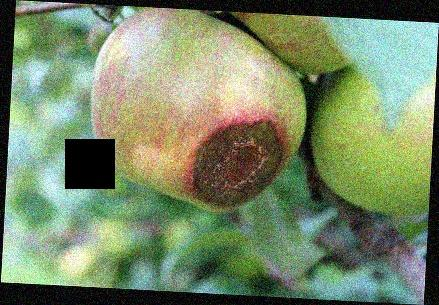rotten apple: (91, 11, 315, 217)
